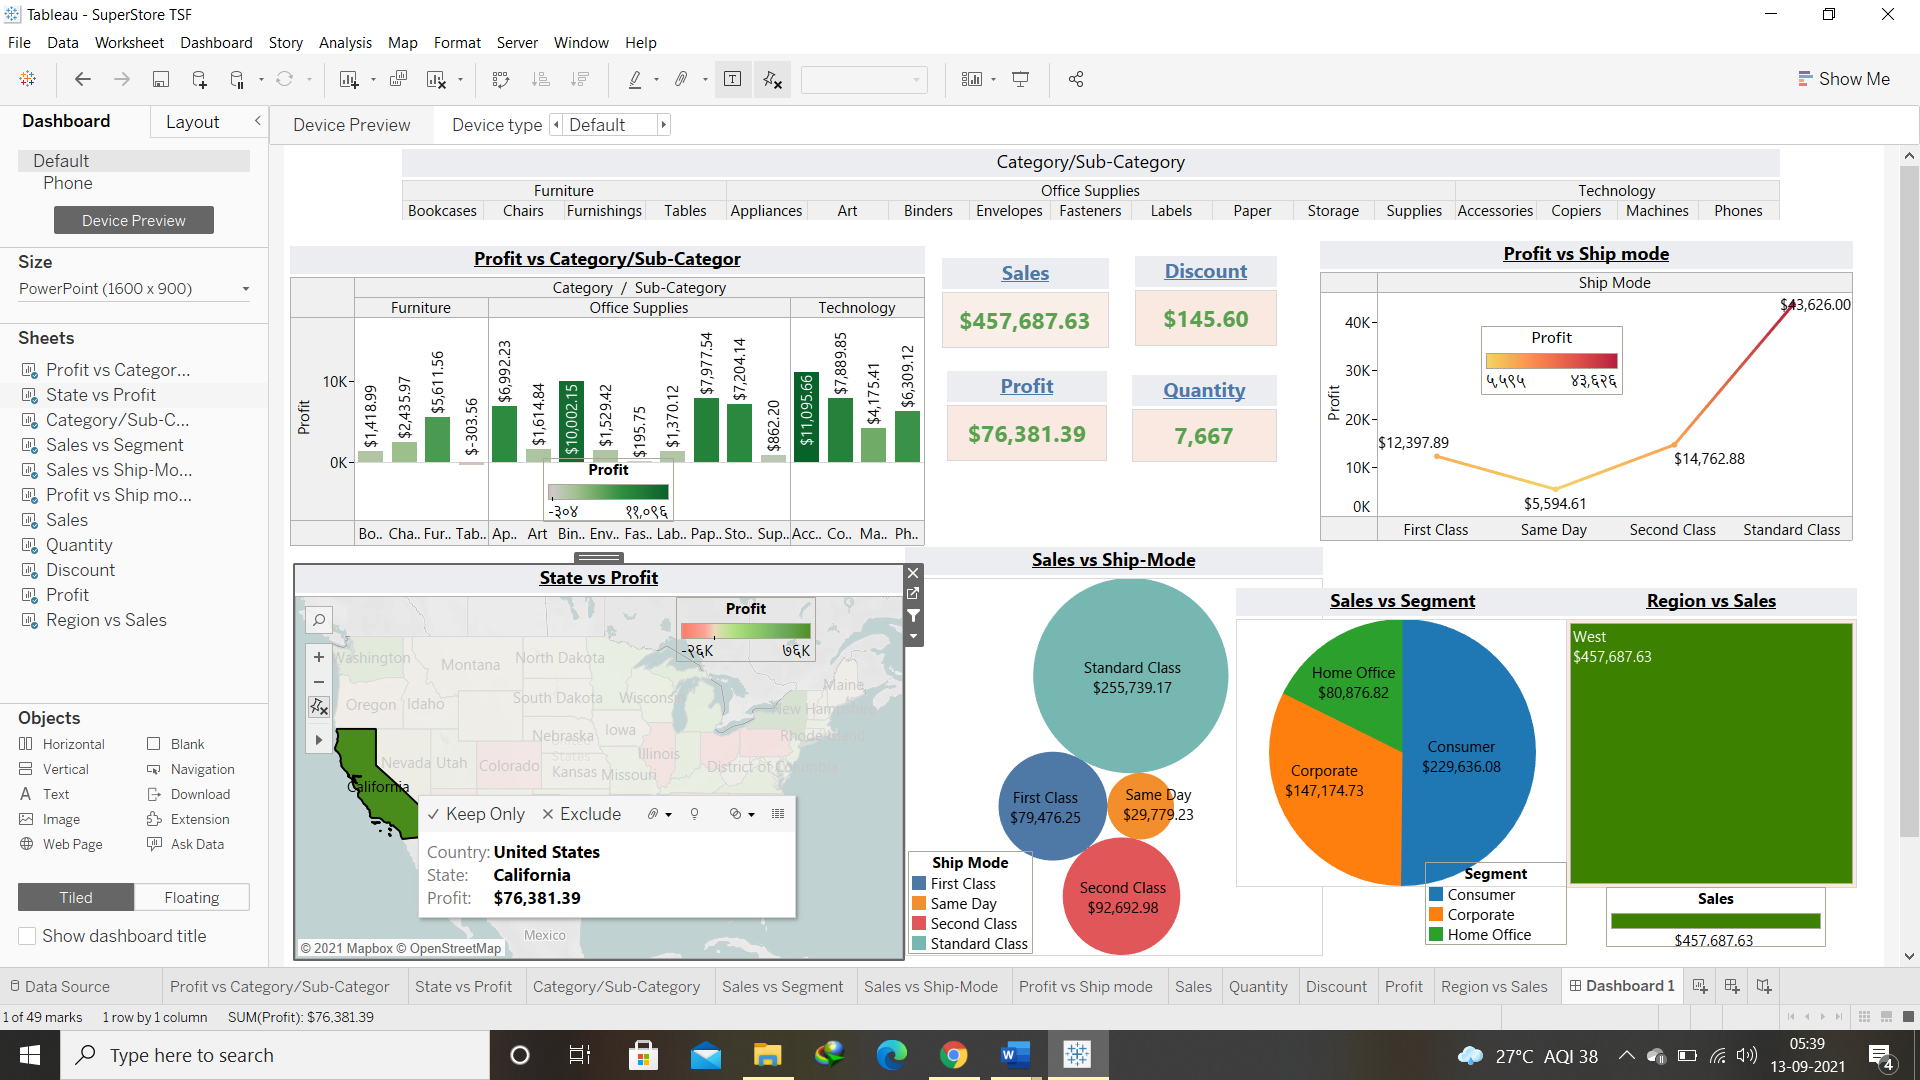

Layout of this report page (visuals, bound fields, positions):
{"tool":"tableau","page":{"name":"Dashboard 1","canvas":[1600,900],"ordinal":0},"visuals":[{"type":"worksheet","title":"Category/Sub-Category","mark":"Automatic","cols":["Category","Sub-Category"],"box":[118,4,1400,72]},{"type":"worksheet","title":"Profit vs Ship mode","mark":"Line","rows":["Profit"],"cols":["Ship Mode"],"box":[1036,96,533,300]},{"type":"worksheet","title":"Profit vs Category/Sub-Categor","mark":"Automatic","rows":["Profit"],"cols":["Category","Sub-Category"],"box":[6,101,635,300]},{"type":"worksheet","title":"Discount","mark":"Automatic","box":[851,111,147,100]},{"type":"worksheet","title":"Sales","mark":"Automatic","box":[658,113,167,98]},{"type":"legend","title":"Profit vs Ship mode","param":"[federated.0vfh99f15i6l7z15v7uag1nc8c84].[sum:Profit:qk]","box":[1197,181,142,69]},{"type":"worksheet","title":"Profit","mark":"Automatic","box":[663,226,170,107]},{"type":"worksheet","title":"Quantity","mark":"Automatic","box":[848,230,152,106]},{"type":"legend","title":"Profit vs Category/Sub-Categor","param":"[federated.0vfh99f15i6l7z15v7uag1nc8c84].[sum:Profit:qk]","box":[259,313,131,64]},{"type":"worksheet","title":"Sales vs Ship-Mode","mark":"Circle","box":[621,402,420,412]},{"type":"worksheet","title":"State vs Profit","mark":"Multipolygon","box":[11,420,608,394]},{"type":"worksheet","title":"Sales vs Segment","mark":"Pie","box":[952,443,334,366]},{"type":"worksheet","title":"Region vs Sales","mark":"Automatic","box":[1282,443,314,368]},{"type":"legend","title":"State vs Profit","param":"[federated.0vfh99f15i6l7z15v7uag1nc8c84].[sum:Profit:qk]","box":[392,452,140,65]},{"type":"legend","title":"Sales vs Ship-Mode","param":"[federated.0vfh99f15i6l7z15v7uag1nc8c84].[none:Ship Mode:nk]","box":[624,706,125,103]},{"type":"legend","title":"Sales vs Segment","param":"[federated.0vfh99f15i6l7z15v7uag1nc8c84].[none:Segment:nk]","box":[1141,717,142,83]},{"type":"legend","title":"Region vs Sales","param":"[federated.0vfh99f15i6l7z15v7uag1nc8c84].[sum:Sales:qk]","box":[1322,742,220,60]}]}

Visuals, with their boxes on the page's 1600x900 design canvas (x1, y1, x2, y2). These are canvas units, not pixel positions in the 1920x1080 screenshot, which may show the page scaled, cropped or inside an application window:
"Category/Sub-Category" worksheet: box=[118, 4, 1518, 76]
"Profit vs Ship mode" worksheet (Line marks): box=[1036, 96, 1569, 396]
"Profit vs Category/Sub-Categor" worksheet: box=[6, 101, 641, 401]
"Discount" worksheet: box=[851, 111, 998, 211]
"Sales" worksheet: box=[658, 113, 825, 211]
"Profit vs Ship mode" legend: box=[1197, 181, 1339, 250]
"Profit" worksheet: box=[663, 226, 833, 333]
"Quantity" worksheet: box=[848, 230, 1000, 336]
"Profit vs Category/Sub-Categor" legend: box=[259, 313, 390, 377]
"Sales vs Ship-Mode" worksheet (Circle marks): box=[621, 402, 1041, 814]
"State vs Profit" worksheet (Multipolygon marks): box=[11, 420, 619, 814]
"Sales vs Segment" worksheet (Pie marks): box=[952, 443, 1286, 809]
"Region vs Sales" worksheet: box=[1282, 443, 1596, 811]
"State vs Profit" legend: box=[392, 452, 532, 517]
"Sales vs Ship-Mode" legend: box=[624, 706, 749, 809]
"Sales vs Segment" legend: box=[1141, 717, 1283, 800]
"Region vs Sales" legend: box=[1322, 742, 1542, 802]
